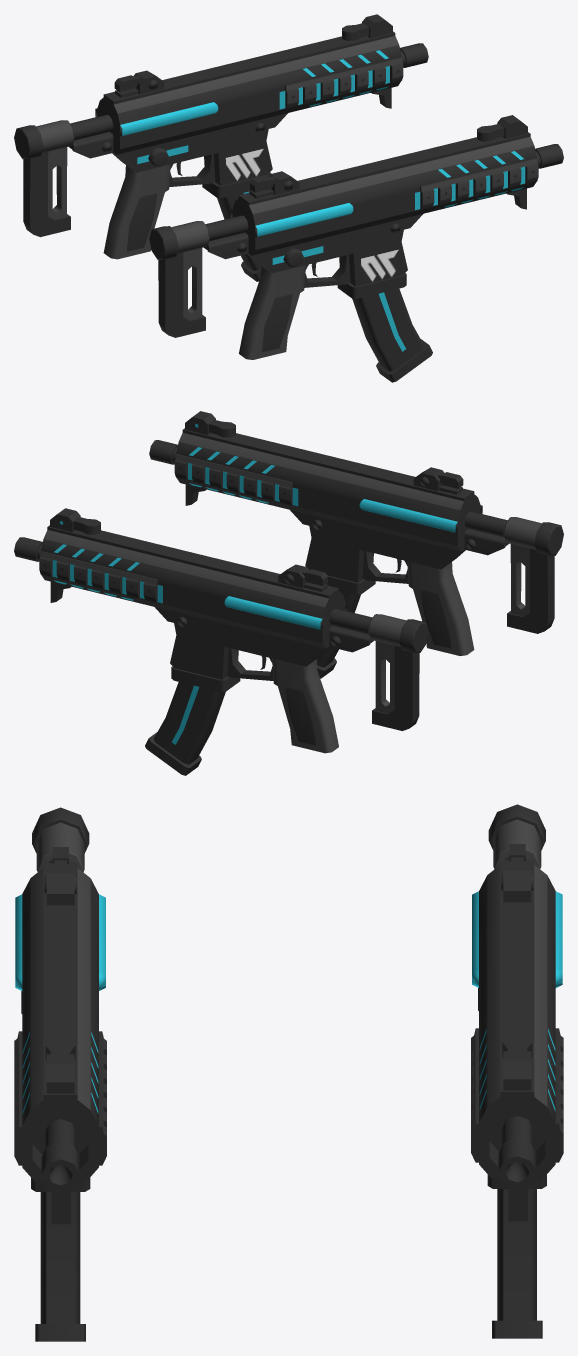
The model's file is yuuka_weapon.gltf.
3 renders of one model, top to bottom at view 1: azimuth 30°, elevation 25°; view 2: azimuth 150°, elevation 25°; view 3: azimuth 270°, elevation 25°, orthographic. The views are drawn at different scales.
Parts seen in each view (by area): view 1: polySurface312, polySurface128; view 2: polySurface128, polySurface312; view 3: polySurface312, polySurface128.
Part boxes in pixels (x1,y1,x2,y2): polySurface312: (149, 115, 563, 382); polySurface128: (14, 14, 428, 281); polySurface128: (14, 508, 428, 775); polySurface312: (149, 411, 563, 678); polySurface312: (14, 807, 106, 1341); polySurface128: (471, 804, 563, 1338).
Bounding box in the file's own units: 0.4311 × 0.2369 × 0.3029.
2 materials, 2 textured.
